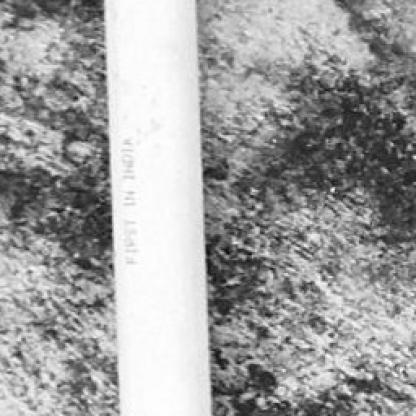PVC: (105, 0, 211, 414)
